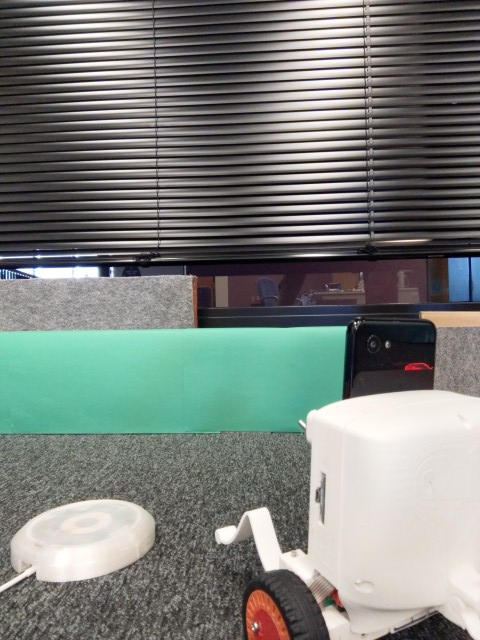bl: (205, 312, 480, 640)
o: (8, 495, 162, 585)
